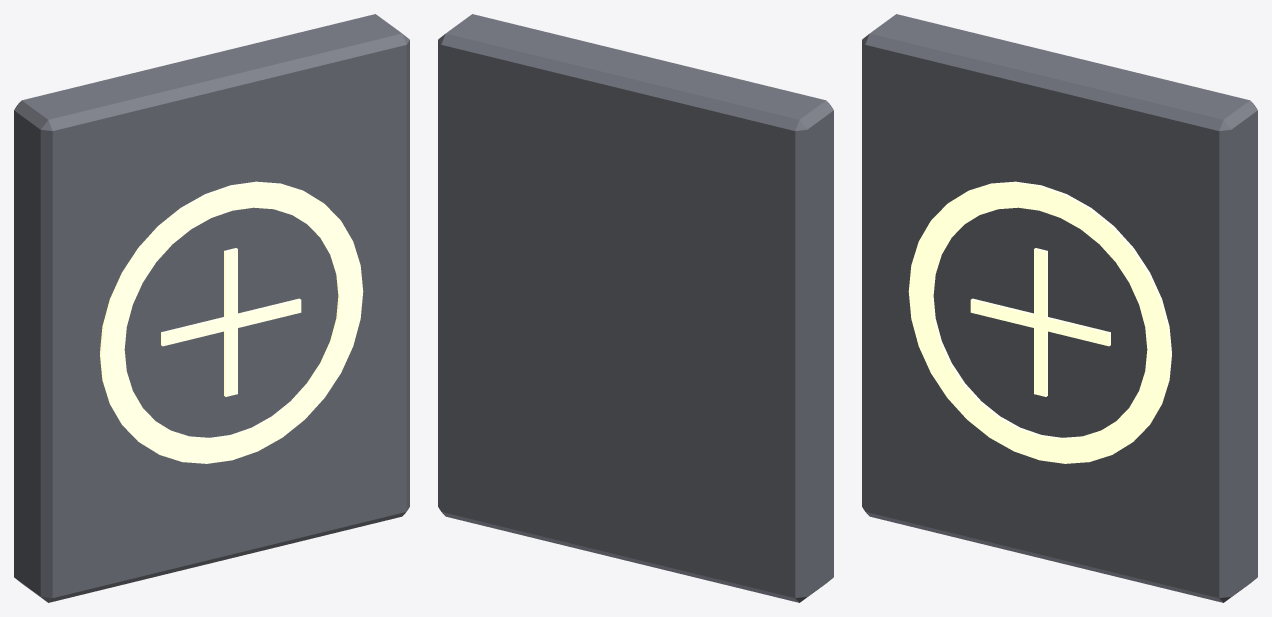
File: SealSlab.fbx
The picture shows the model from 3 angles, left to right: view 1: azimuth 30°, elevation 25°; view 2: azimuth 150°, elevation 25°; view 3: azimuth 330°, elevation 25°; orthographic projection.
Visible parts, largest first — view 1: SealSlab; view 2: SealSlab; view 3: SealSlab.
Part boxes in pixels (x1=…): SealSlab: x1=14, y1=14, x2=409, y2=602; SealSlab: x1=438, y1=14, x2=833, y2=602; SealSlab: x1=862, y1=14, x2=1257, y2=602.
Size of the model in its own units: 2.4 by 3 by 0.43.
